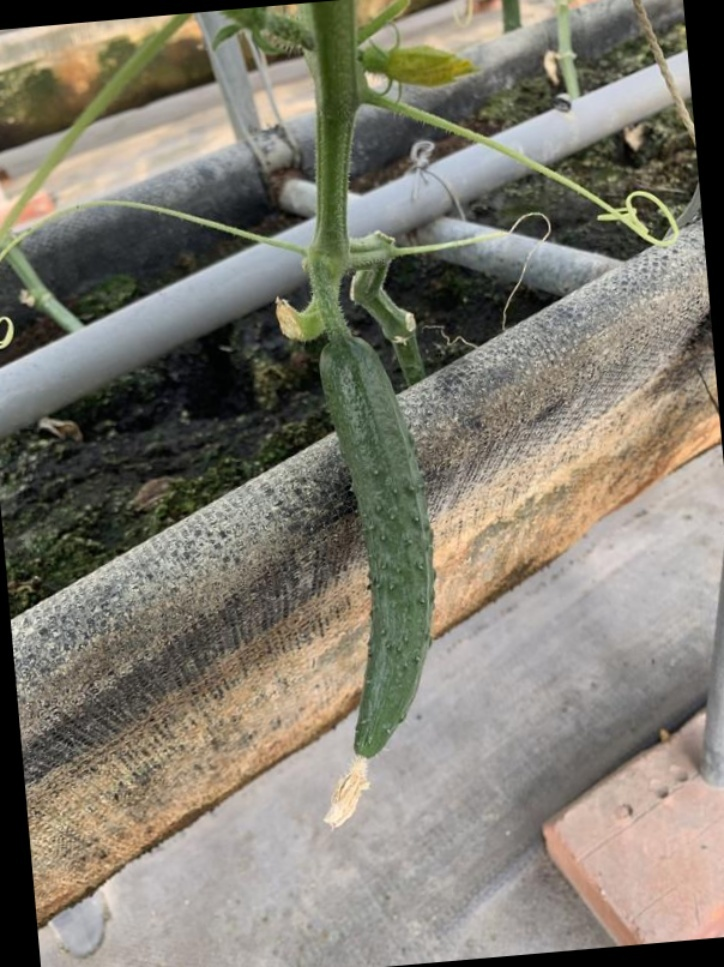bud: (372, 33, 485, 93)
growth: (282, 334, 456, 810)
